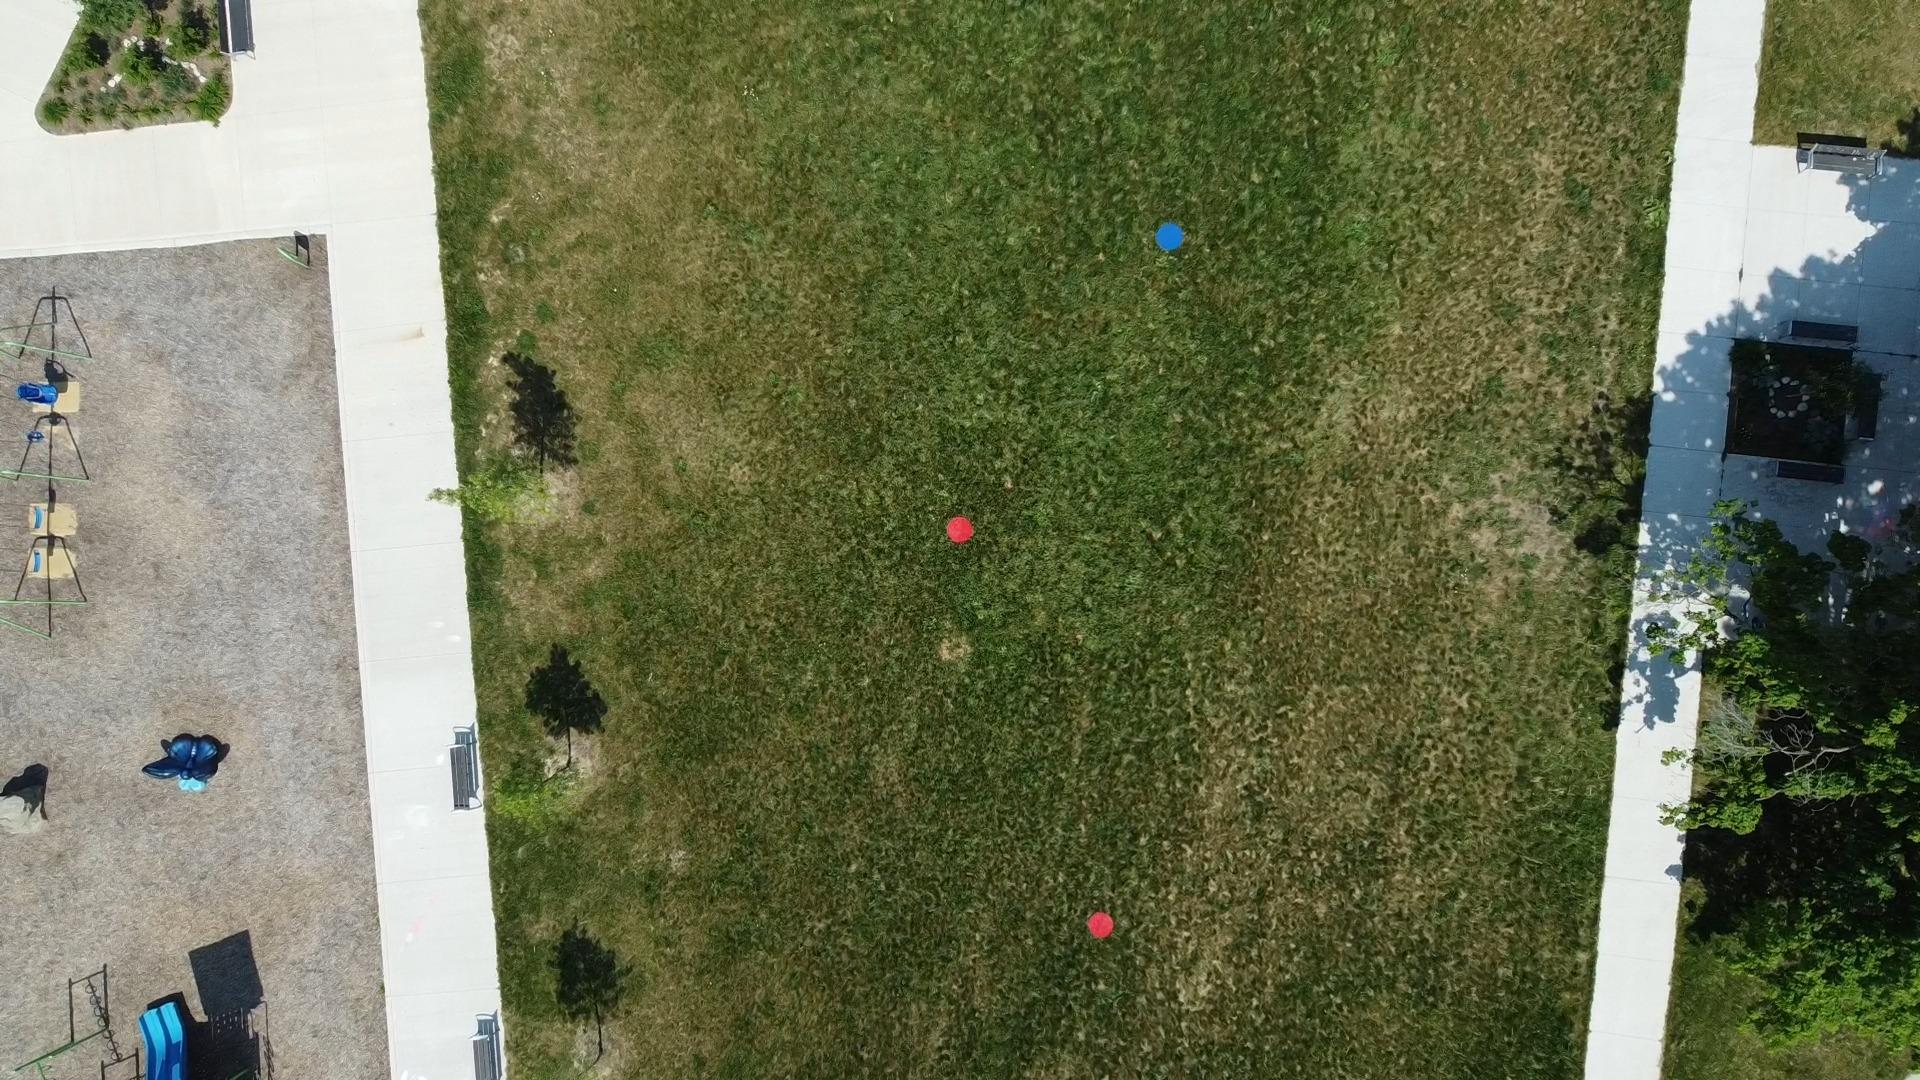Blue: (1154, 220, 1185, 252)
Red: (945, 516, 976, 545), (1087, 910, 1116, 940)
